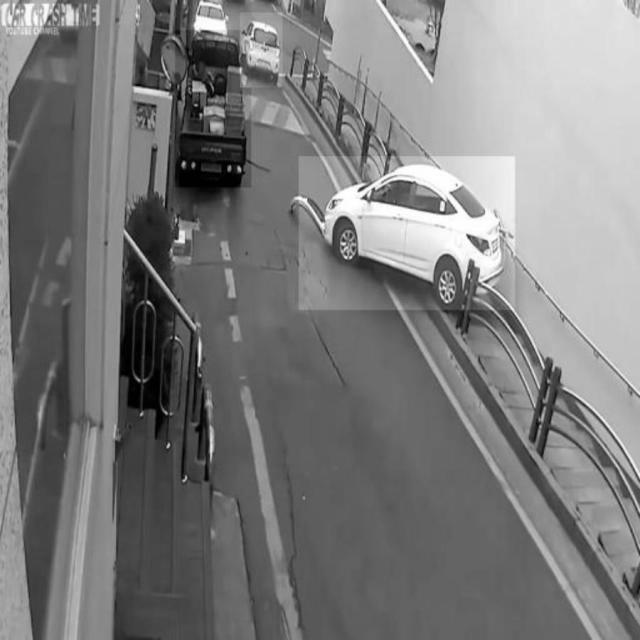accident: (299, 156, 515, 310)
vehicle: (176, 31, 252, 188), (240, 13, 282, 87)
